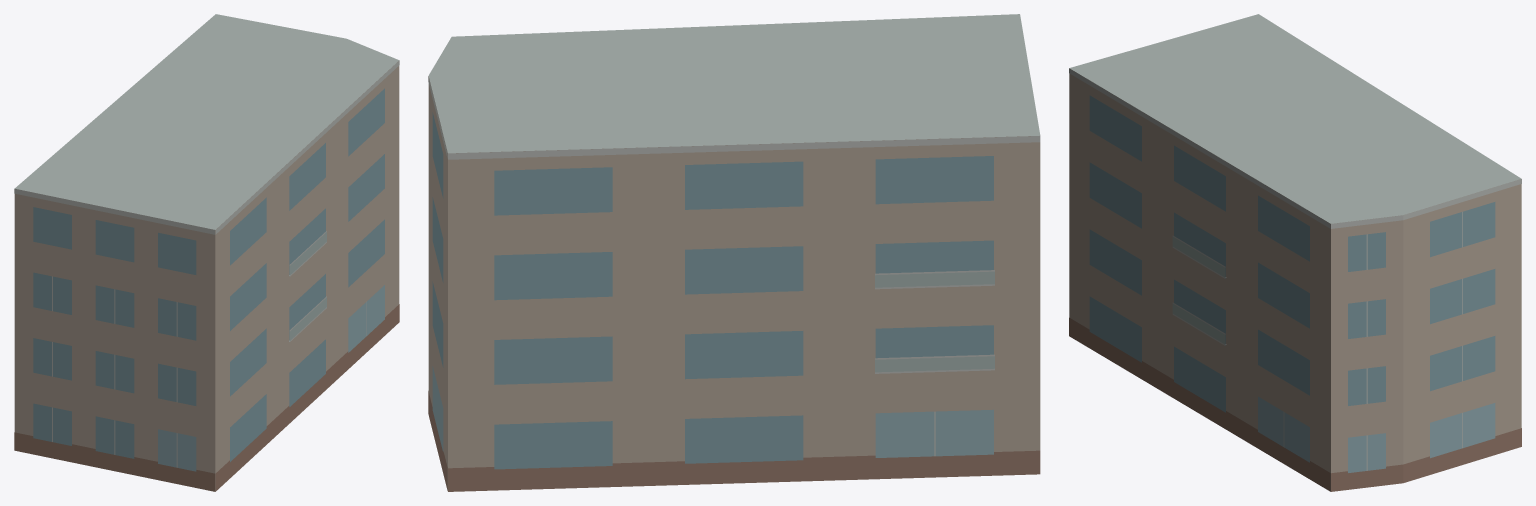
The model's file is survey-upis-32943032.glb.
3 views of the same model, side by side, from view 1: azimuth 30°, elevation 25°; view 2: azimuth 150°, elevation 25°; view 3: azimuth 270°, elevation 25° (orthographic). The views are drawn at different scales.
Parts seen in each view (by area): view 1: survey-upis-32943032.tmp; view 2: survey-upis-32943032.tmp; view 3: survey-upis-32943032.tmp.
Part boxes in pixels (x1,y1,x2,y2): survey-upis-32943032.tmp: (14,14,399,491); survey-upis-32943032.tmp: (428,14,1040,491); survey-upis-32943032.tmp: (1069,14,1521,491).
Size of the model in its own units: 21.5 by 12.8 by 19.6.
